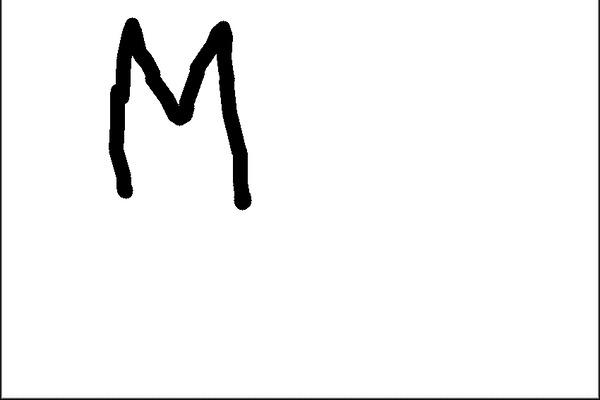M: (109, 12, 256, 215)
